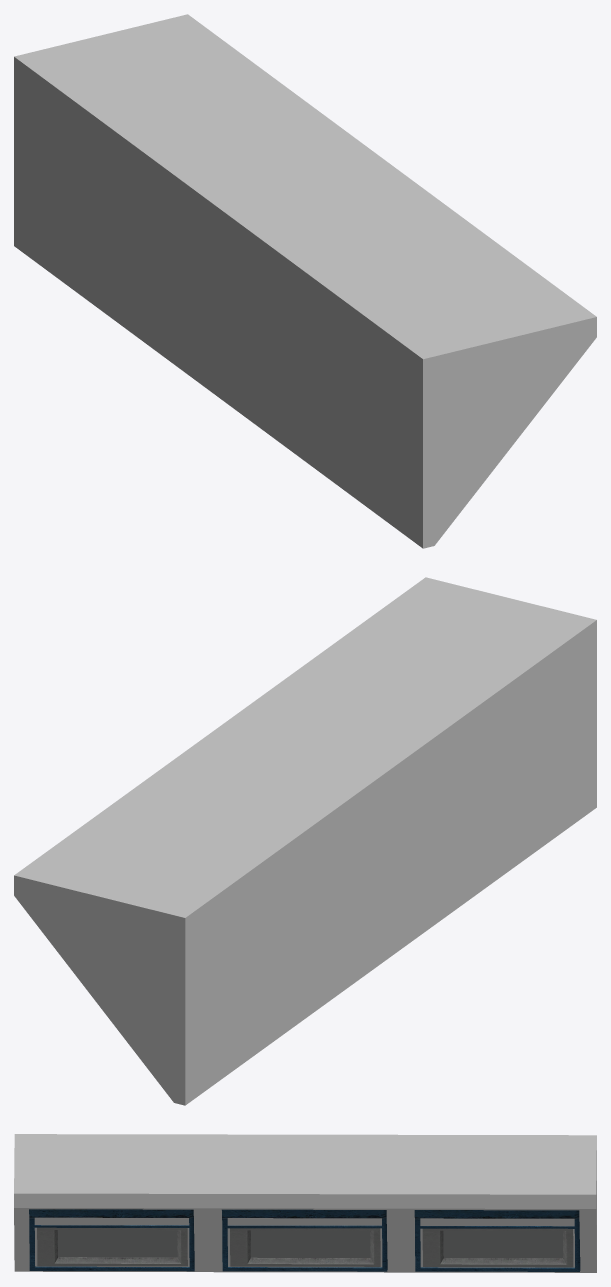
File: UpperMonitor.fbx
3 renders of one model, top to bottom at view 1: azimuth 30°, elevation 25°; view 2: azimuth 150°, elevation 25°; view 3: azimuth 270°, elevation 25°, orthographic. The views are drawn at different scales.
Parts seen in each view (by area): view 1: mesh_0.2119; view 2: mesh_0.2119; view 3: mesh_0.2119, mesh_4.214, mesh_2.456, mesh_1.1436.
Part boxes in pixels (x1,y1,x2,y2): mesh_0.2119: (14,14,596,548); mesh_0.2119: (14,577,596,1105); mesh_0.2119: (14,1134,596,1272); mesh_4.214: (57,1230,562,1258); mesh_2.456: (29,1209,580,1271); mesh_1.1436: (37,1227,573,1267).
Size of the model in its own units: 0.7415 by 0.7612 by 3.
